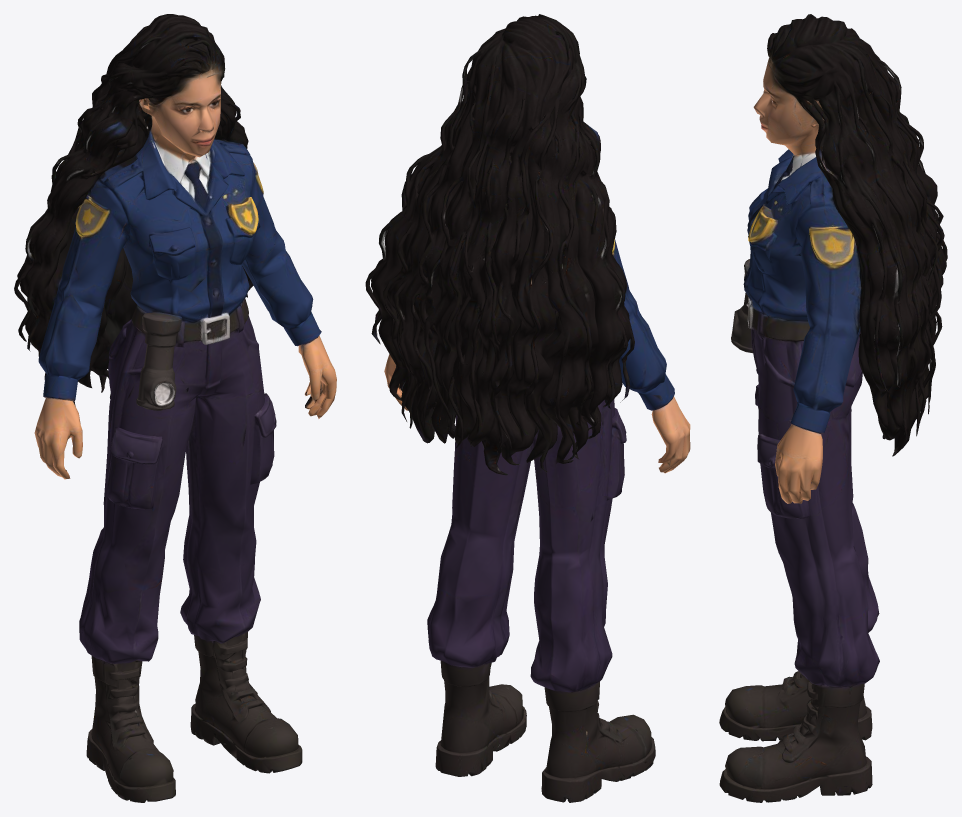
The model's file is nevethitha.glb.
The picture shows the model from 3 angles, left to right: view 1: azimuth 30°, elevation 25°; view 2: azimuth 150°, elevation 25°; view 3: azimuth 270°, elevation 25°; orthographic projection.
Size of the model in its own units: 0.7861 by 1.9 by 0.5312.
1 material, 1 textured.
